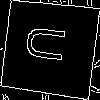U: (24, 23, 75, 65)
